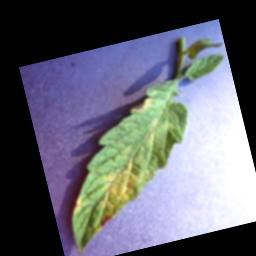Leaf_Mold: (77, 152, 165, 236), (127, 96, 158, 117), (69, 195, 86, 214)
